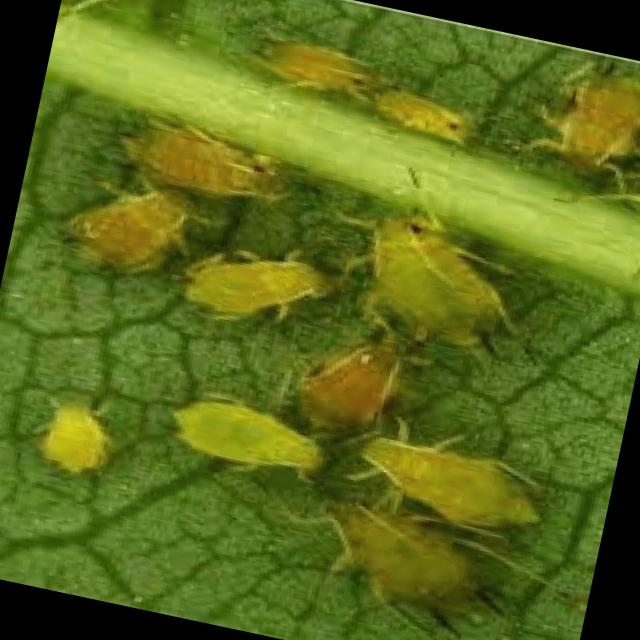aphid: (298, 186, 552, 373), (295, 484, 538, 640), (324, 412, 576, 562), (120, 108, 298, 228), (150, 374, 332, 486), (511, 50, 640, 208), (162, 231, 340, 340), (59, 164, 200, 286), (285, 320, 413, 450), (354, 63, 494, 154), (5, 376, 118, 479), (236, 19, 368, 100)
